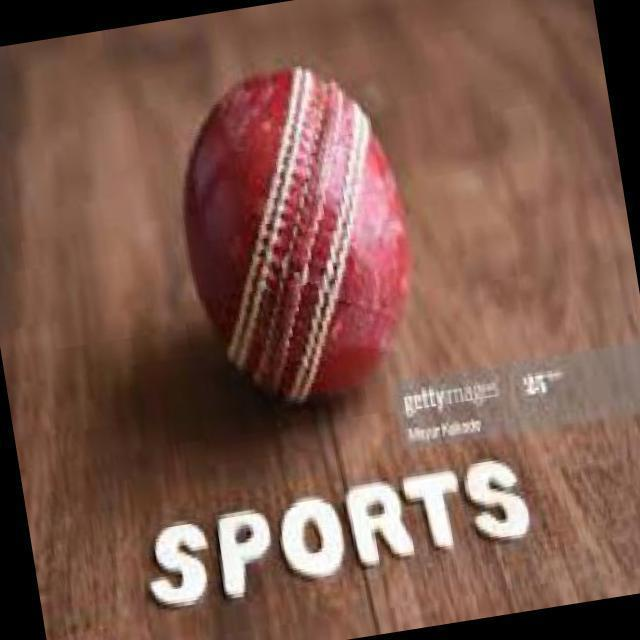-: (166, 60, 427, 417)
